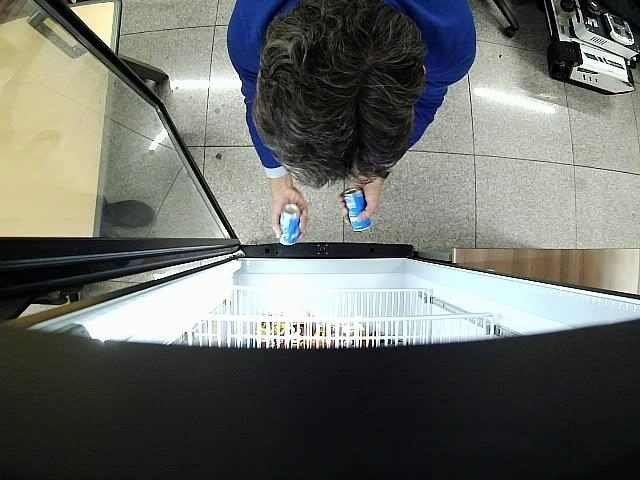15_letsbe: (342, 188, 372, 232), (280, 204, 300, 246)
